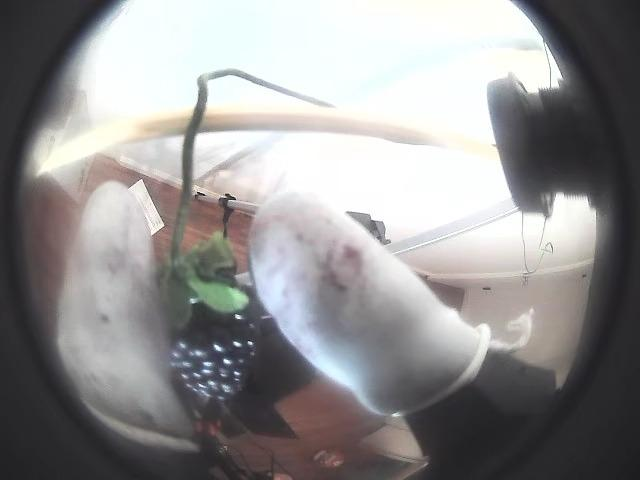berry: (160, 232, 258, 407)
gripper: (250, 186, 490, 413), (57, 182, 196, 450)
lense: (437, 0, 639, 479), (0, 0, 155, 479)
